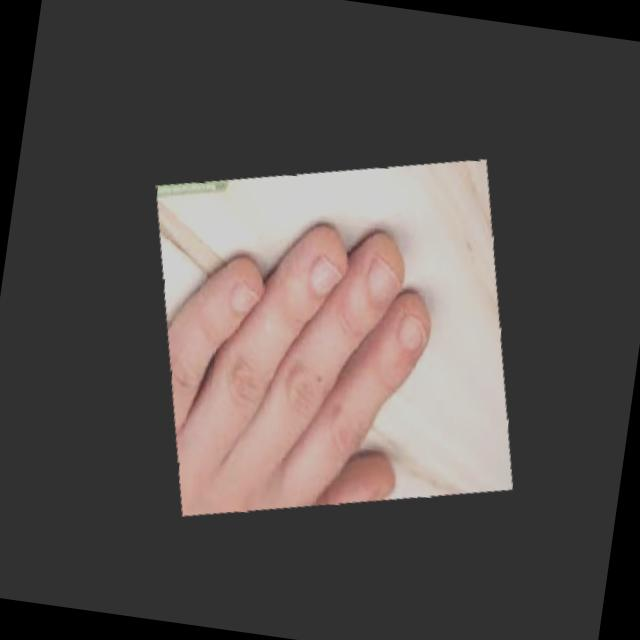Nail: (396, 312, 427, 357), (310, 256, 343, 296), (370, 257, 400, 300), (231, 284, 262, 314)
